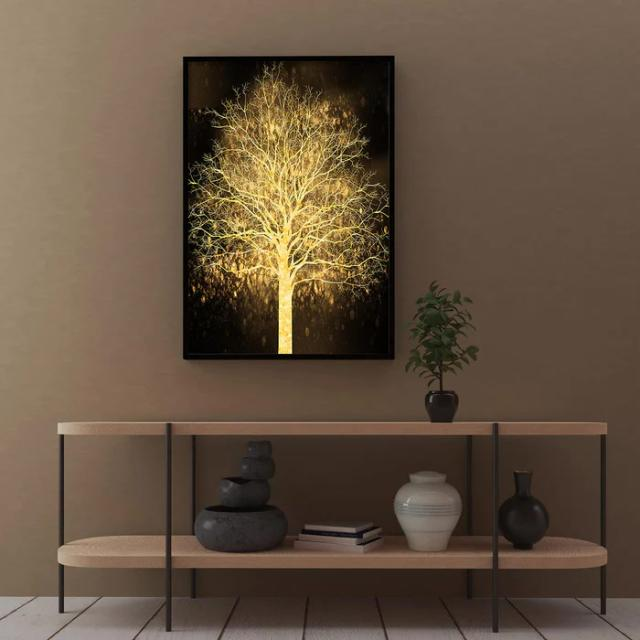painting: (184, 55, 396, 362)
